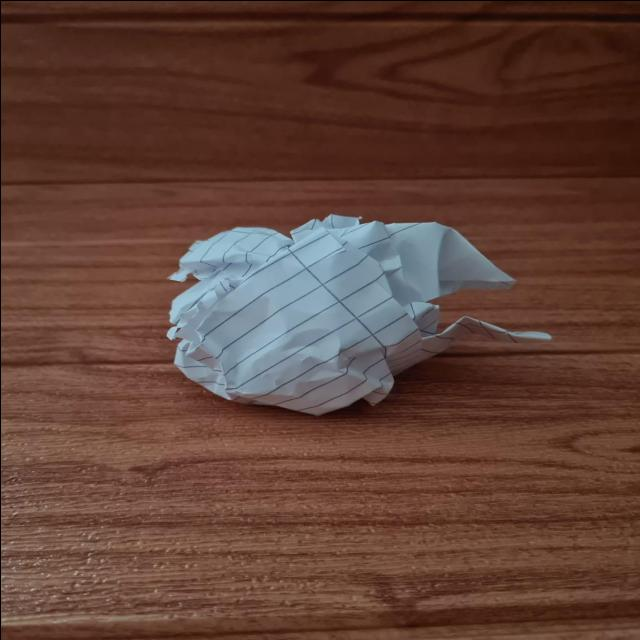kertas: (154, 218, 510, 412)
